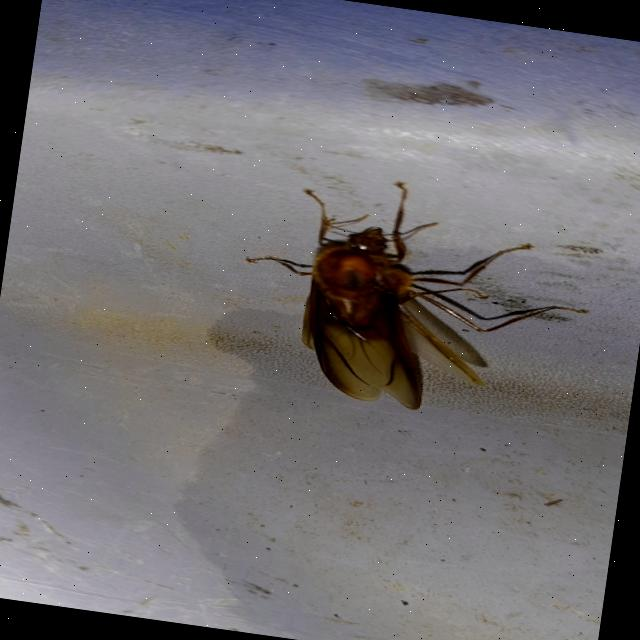Alive-Male-Alate: (226, 160, 605, 434)
